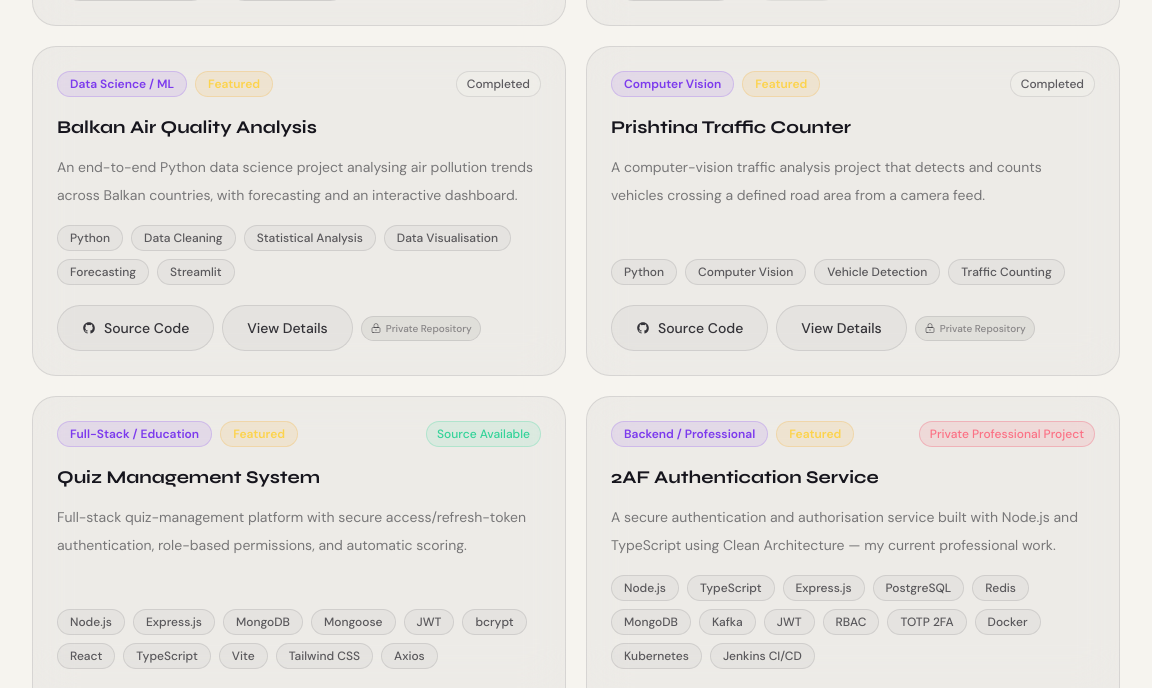
Projects › private repository visibility badge › shows the private badge inside the modal's Resources section too
(page scrolled)
What coordinates should you click on to do the following:
click the button "View Details" below "Vehicle Detection"
I would click on:
 (842, 328)
Its box is [776,305,907,351].
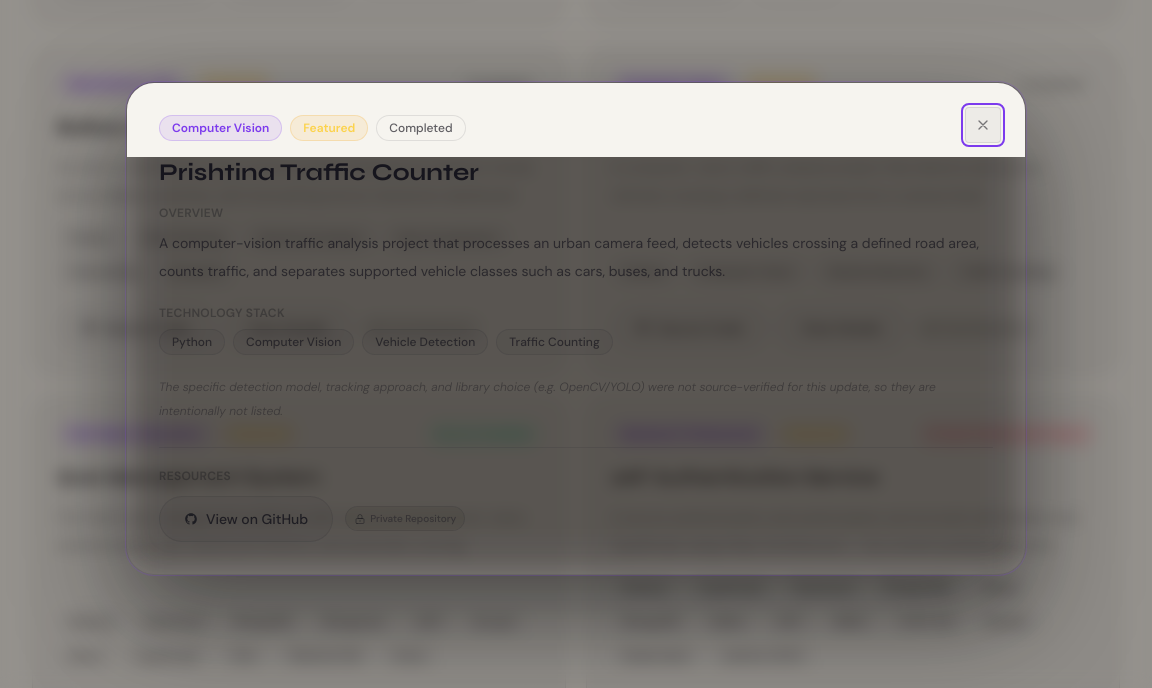
Check: the text "Resources" is shown, box [159,468,231,484]
Check: the text "Private Repository" is shown, box [345,506,465,531]
